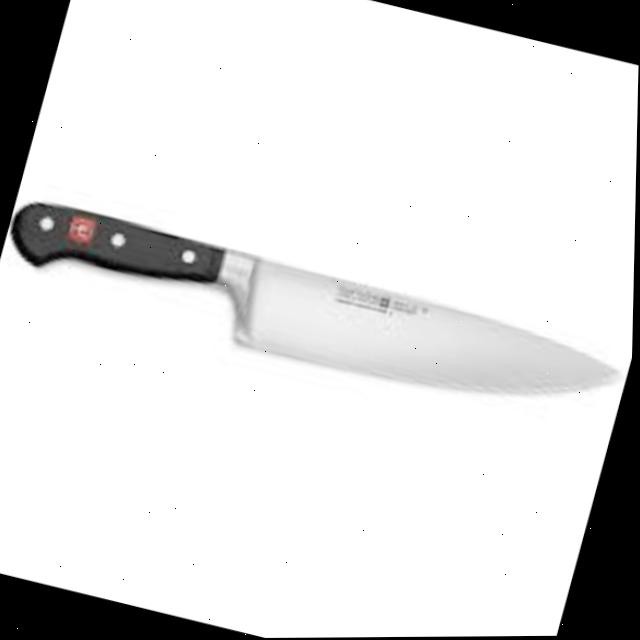Knife: (0, 189, 637, 440)
